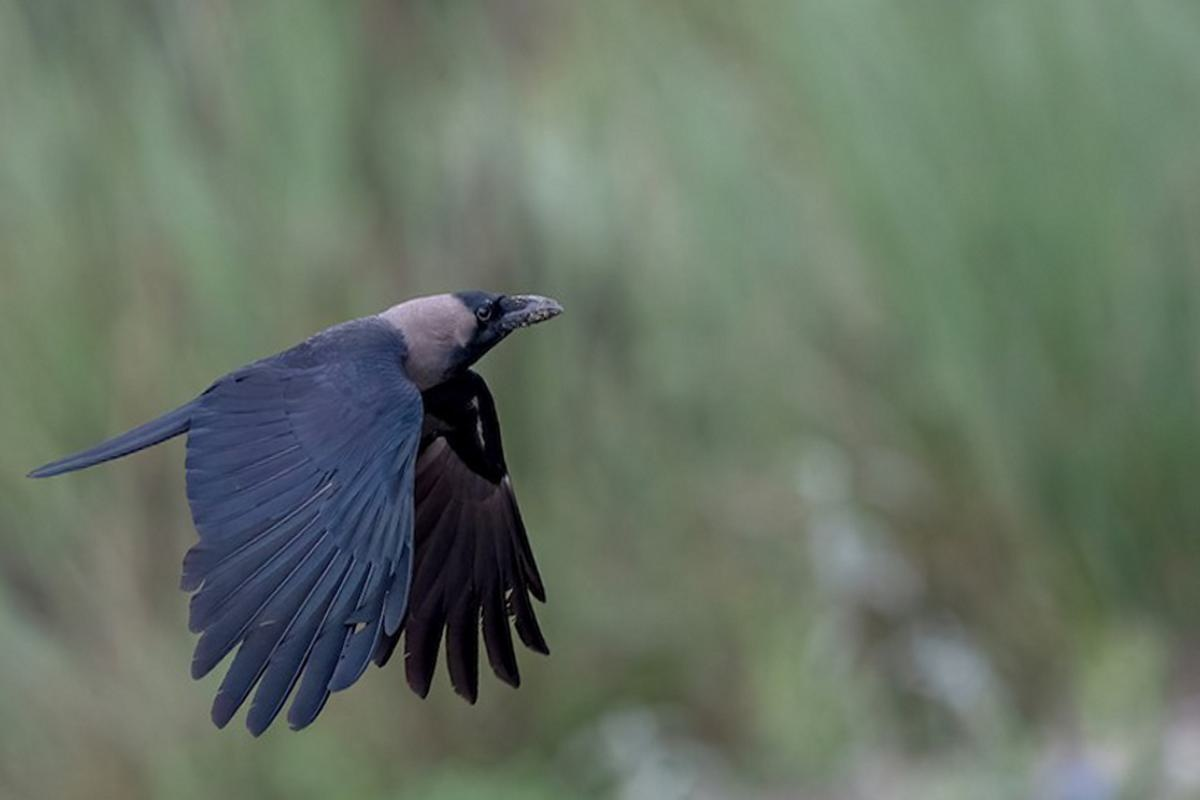crow: (42, 271, 586, 737)
